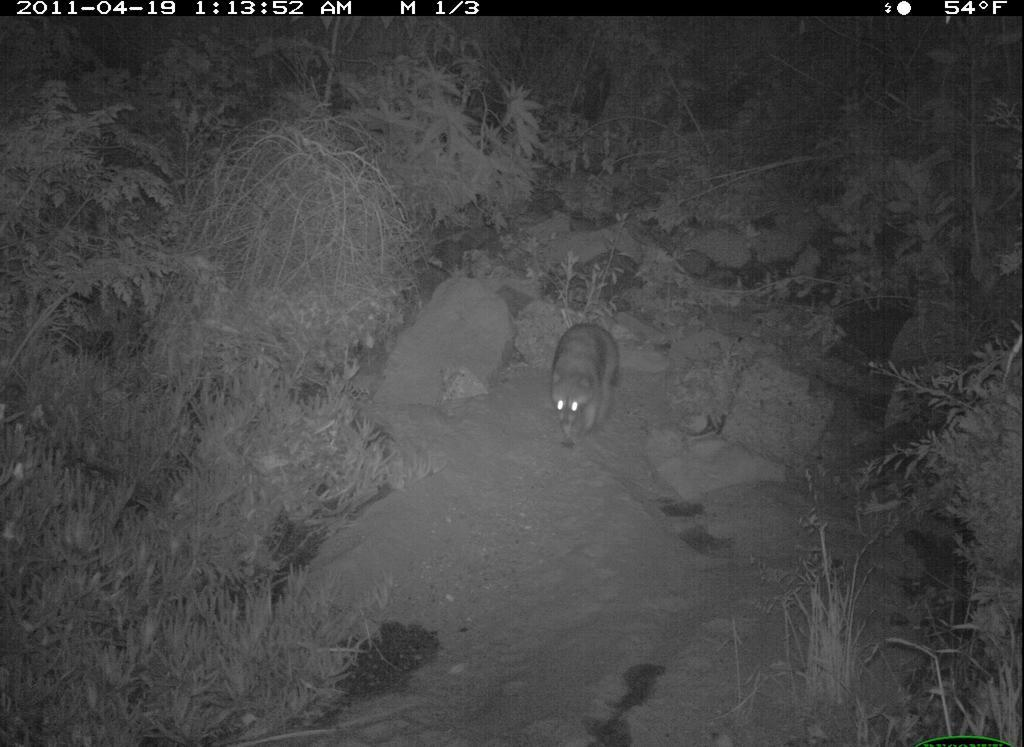raccoon: (533, 306, 632, 451)
